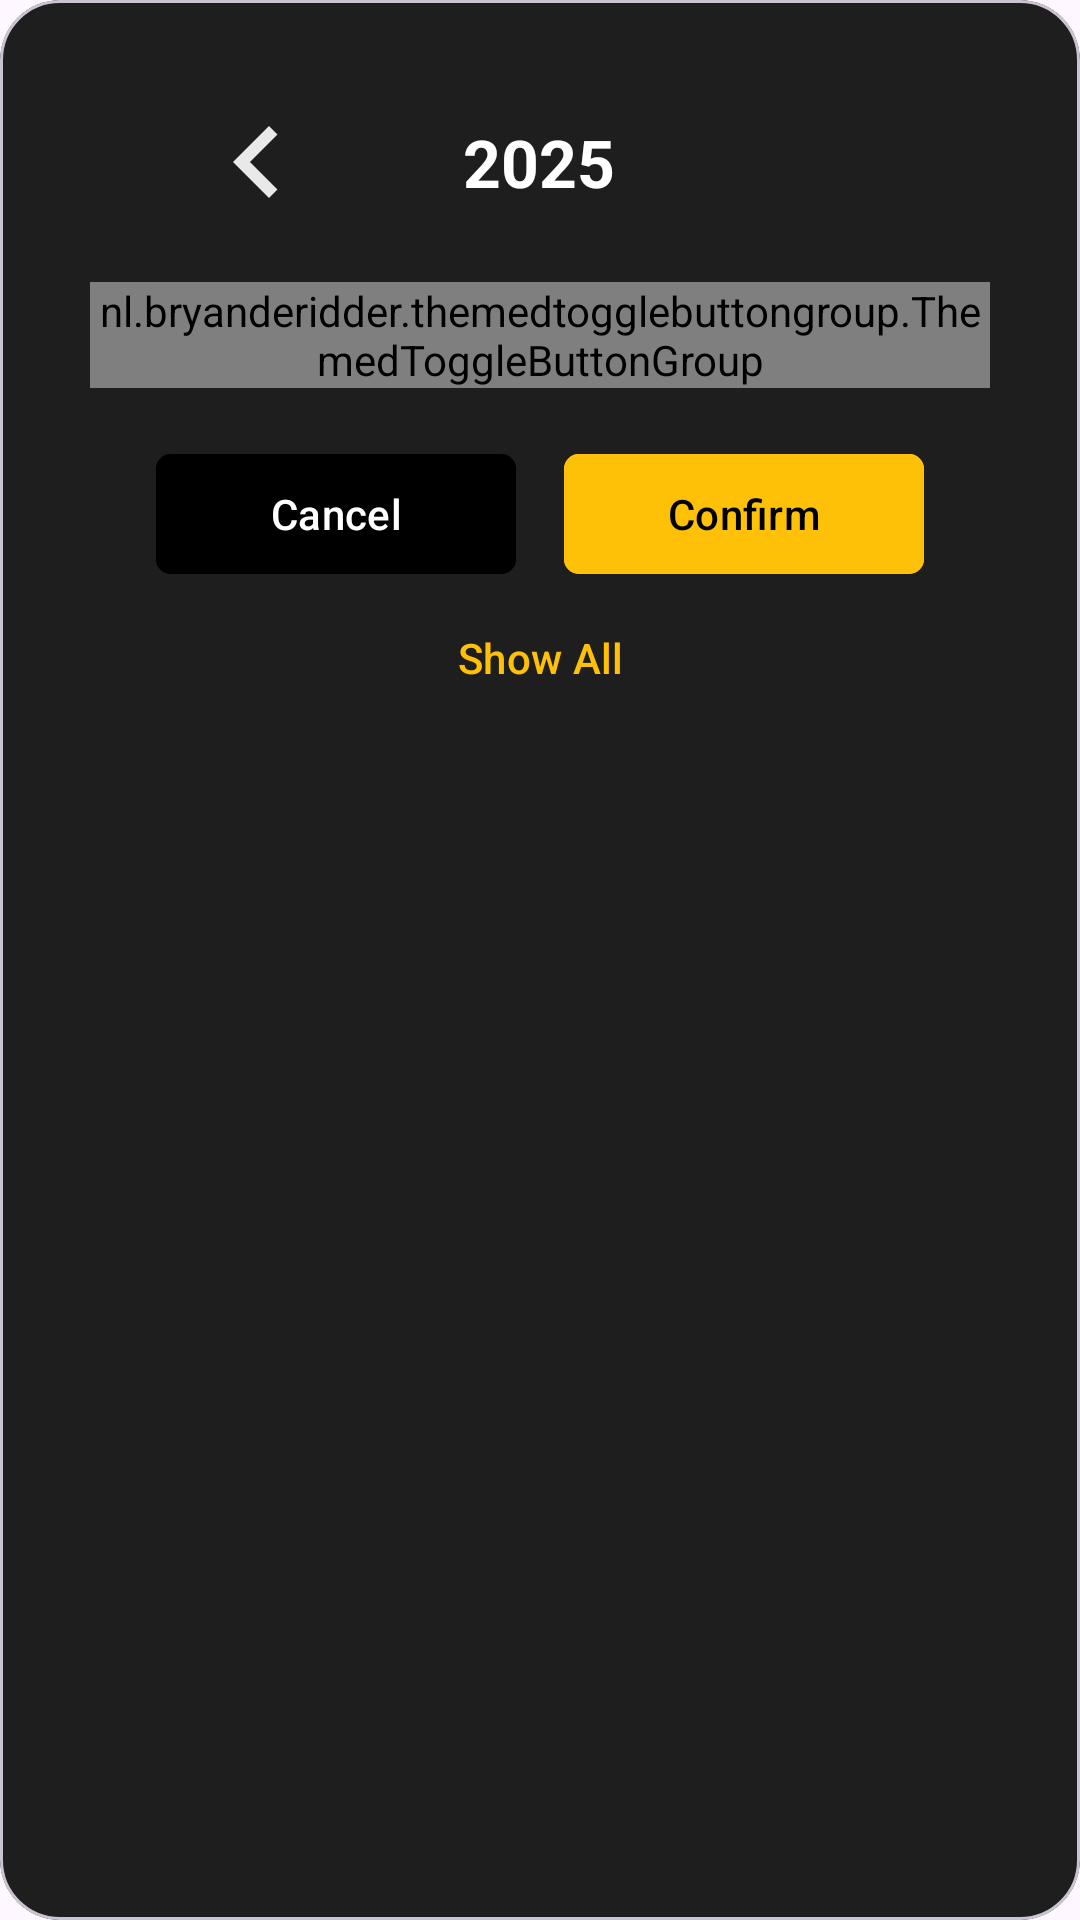

Screen size 1080×1920. Icon name, then its box in pixels as bbox=[x1, y1, x2, y2]:
arrow left: bbox=[233, 126, 278, 198]
